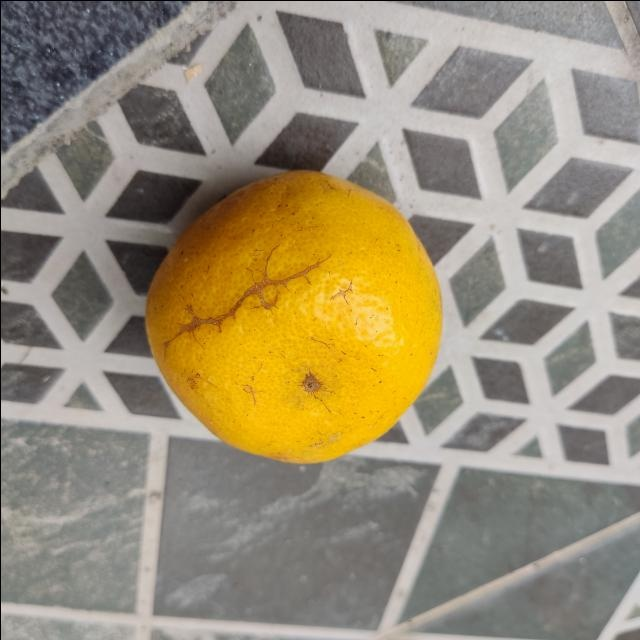agrume: (141, 165, 445, 467)
